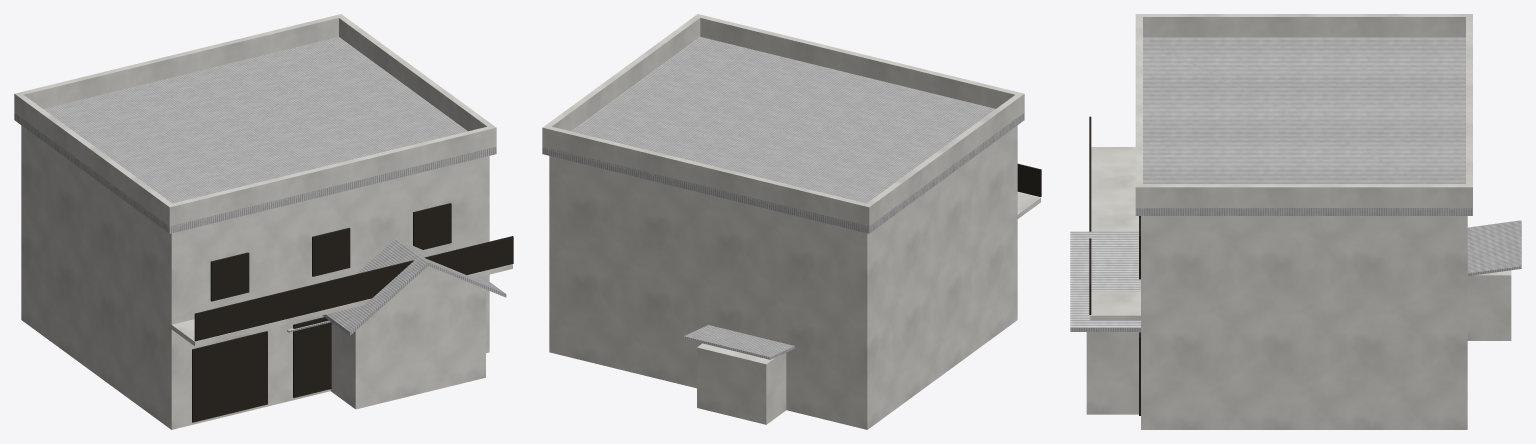
Rendered from houses.glb.
3 renders of one model, left to right at view 1: azimuth 30°, elevation 25°; view 2: azimuth 150°, elevation 25°; view 3: azimuth 270°, elevation 25°, orthographic. The views are drawn at different scales.
Visible parts, largest first — view 1: house_d_walls, house_d_roof, house_d_trim, house_b_walls, house_b_roof; view 2: house_d_walls, house_d_roof, house_c_walls, house_c_roof, house_d_trim; view 3: house_d_walls, house_d_roof, house_b_roof, house_b_walls, house_c_walls, house_c_roof, house_d_trim.
Boxes of the visible parts, box(x1,y1,x2,y2) form: house_d_walls: box(14, 14, 512, 429); house_d_roof: box(14, 37, 496, 233); house_d_trim: box(192, 203, 513, 422); house_b_walls: box(330, 266, 485, 409); house_b_roof: box(322, 238, 506, 335); house_d_walls: box(542, 14, 1040, 429); house_d_roof: box(542, 37, 1024, 233); house_c_walls: box(697, 343, 786, 424); house_c_roof: box(683, 325, 794, 359); house_d_trim: box(1017, 163, 1041, 196); house_d_walls: box(1090, 14, 1472, 429); house_d_roof: box(1135, 37, 1472, 215); house_b_roof: box(1070, 231, 1140, 331); house_b_walls: box(1086, 332, 1140, 414); house_c_walls: box(1467, 270, 1511, 340); house_c_roof: box(1467, 220, 1521, 275); house_d_trim: box(1089, 116, 1140, 415).
Bounding box in the file's own units: 11.3 × 7.45 × 12.44.
Materials: 3 (2 with a texture image).
